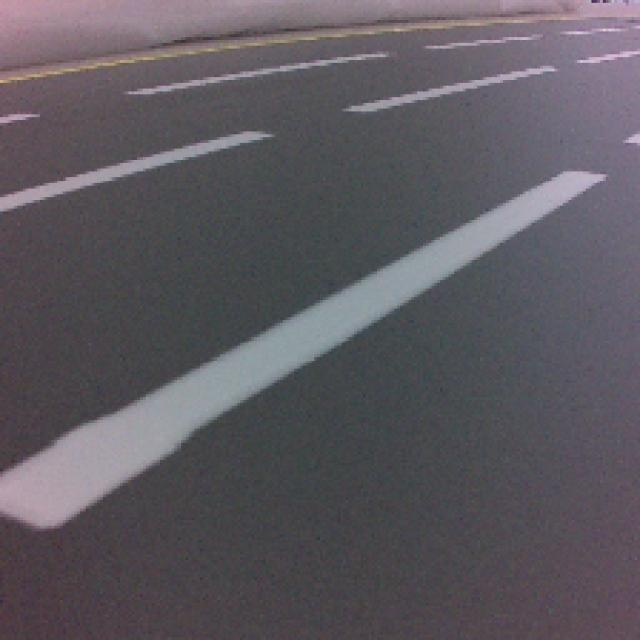Guard rail: (0, 171, 607, 530)
